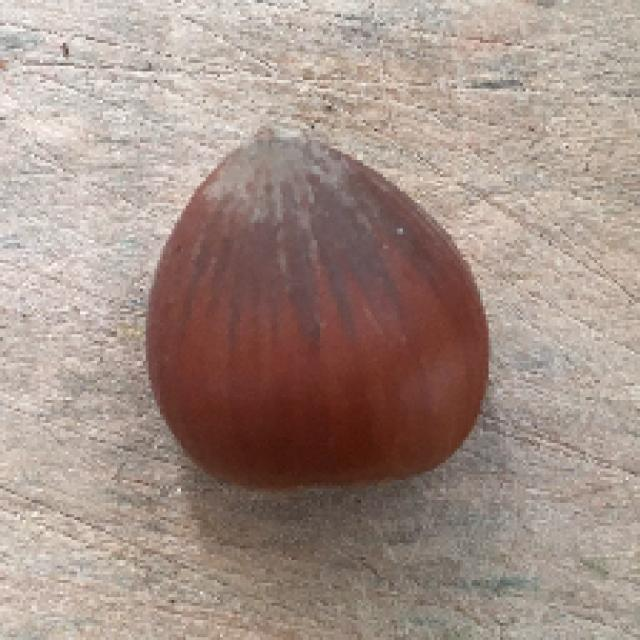DamagedHazelnut: (145, 129, 491, 493)
